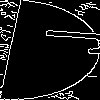J: (24, 25, 100, 56)
